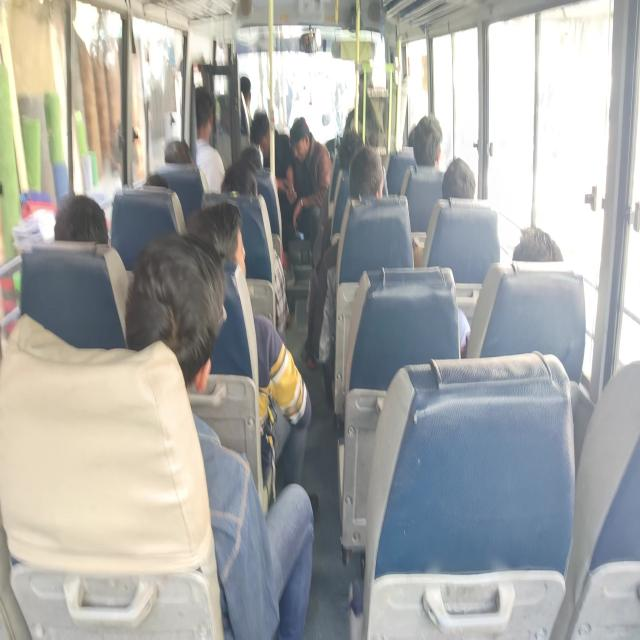person: (418, 0, 426, 222)
